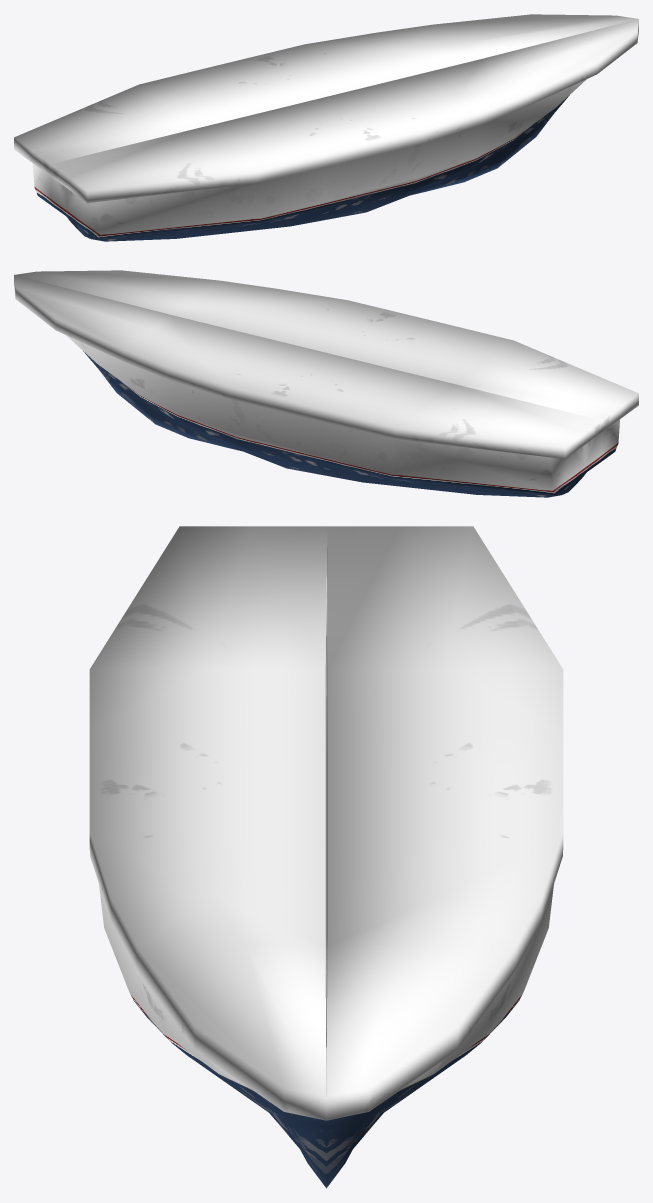
File: fishingBoat00.fbx
3 views of the same model, one above another, from view 1: azimuth 30°, elevation 25°; view 2: azimuth 150°, elevation 25°; view 3: azimuth 270°, elevation 25° (orthographic). The views are drawn at different scales.
Visible parts, largest first — view 1: fishingBoat_final; view 2: fishingBoat_final; view 3: fishingBoat_final.
Part boxes in pixels (x1,y1,x2,y2): fishingBoat_final: (14,14,638,241); fishingBoat_final: (14,270,638,497); fishingBoat_final: (89,526,563,1188).
Size of the model in its own units: 1603 by 315 by 559.
